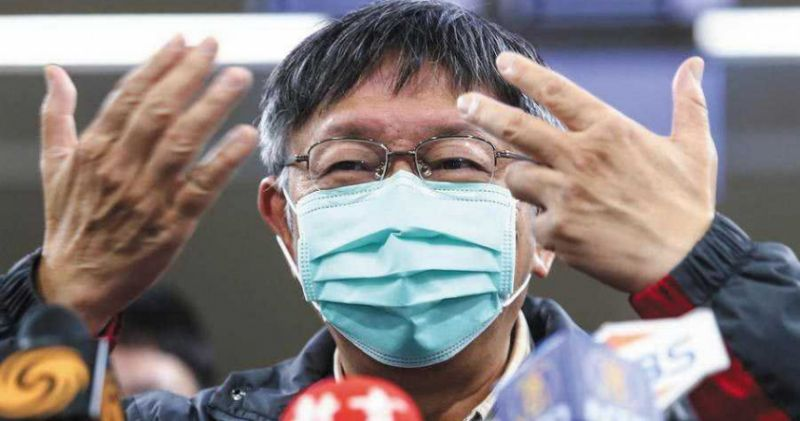mask: (271, 173, 551, 369)
